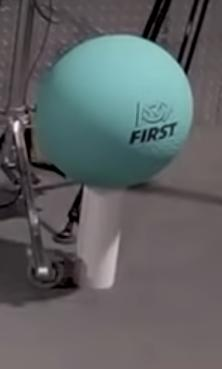algae: (36, 34, 194, 189)
coral: (73, 185, 124, 290)
